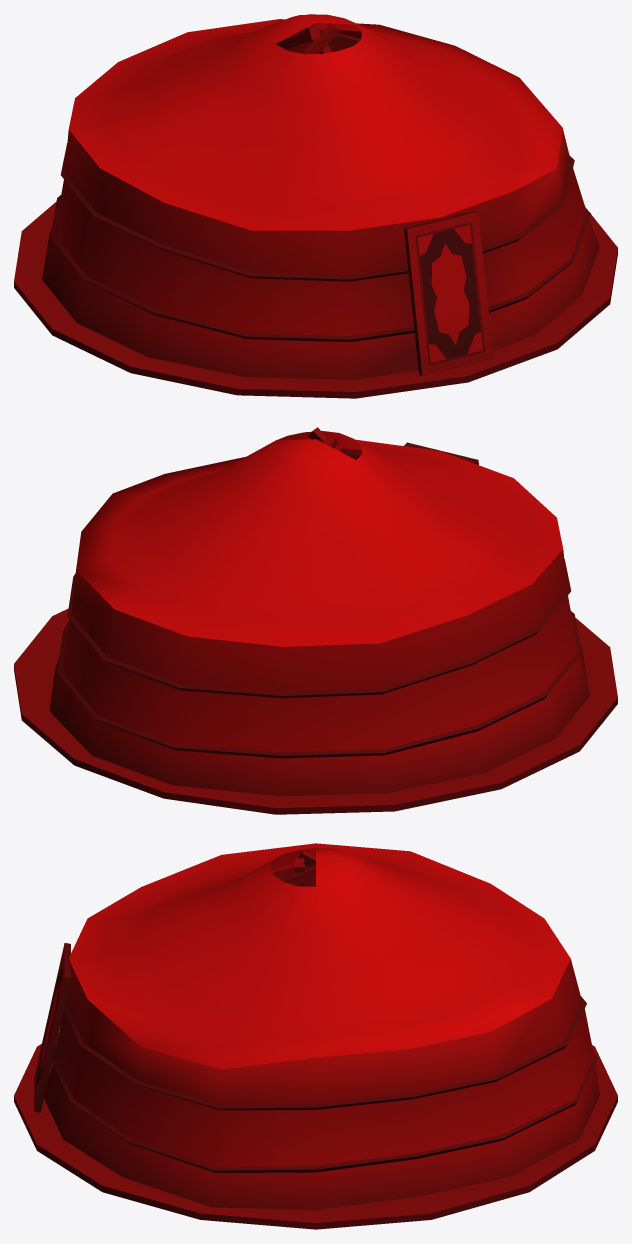
File: buildings-tents-yurt_v3.fbx
The picture shows the model from 3 angles, top to bottom: view 1: azimuth 30°, elevation 25°; view 2: azimuth 150°, elevation 25°; view 3: azimuth 270°, elevation 25°; orthographic projection.
Visible parts, largest first — view 1: Yurt_v3; view 2: Yurt_v3; view 3: Yurt_v3.
Part boxes in pixels (<box>): Yurt_v3: <box>14,14,617,398</box>; Yurt_v3: <box>14,427,617,814</box>; Yurt_v3: <box>14,843,617,1229</box>.
Bounding box in the file's own units: 14.2 × 6.43 × 14.2.
